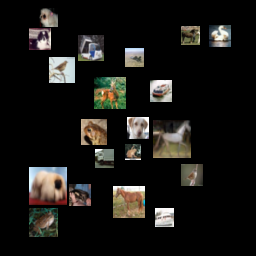airplane: (13, 44, 45, 76), (21, 198, 50, 227), (156, 199, 182, 225), (213, 113, 239, 139)
bird: (27, 19, 43, 35), (197, 21, 213, 37)
deer: (11, 113, 49, 151), (146, 141, 184, 179), (129, 92, 161, 124), (163, 180, 179, 196)
dog: (155, 21, 193, 59), (60, 5, 89, 34), (172, 108, 201, 137), (108, 1, 124, 17)
frog: (75, 175, 97, 197), (208, 158, 230, 180)
ship: (79, 101, 114, 136), (183, 207, 209, 233)
